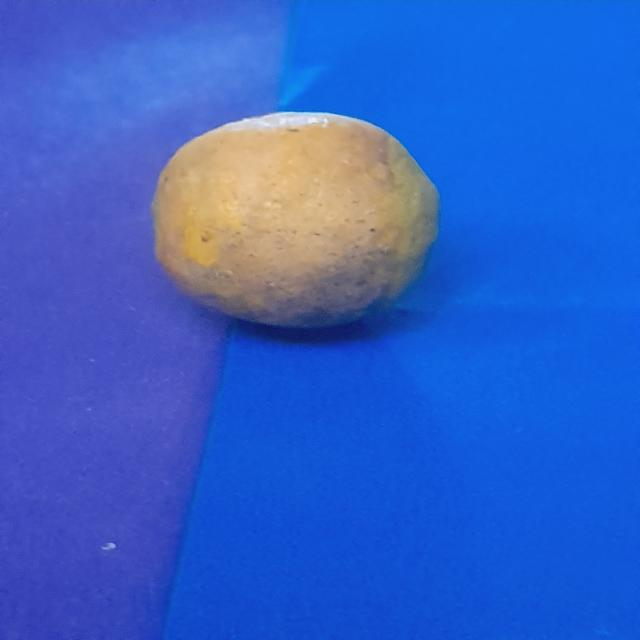thrips: (150, 115, 452, 323)
